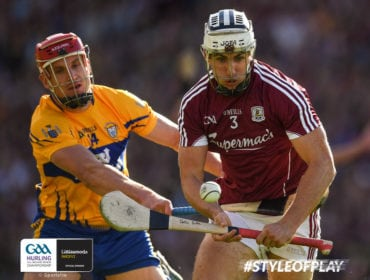ball: (200, 181, 221, 202)
player: (186, 15, 325, 271), (30, 32, 164, 277)
